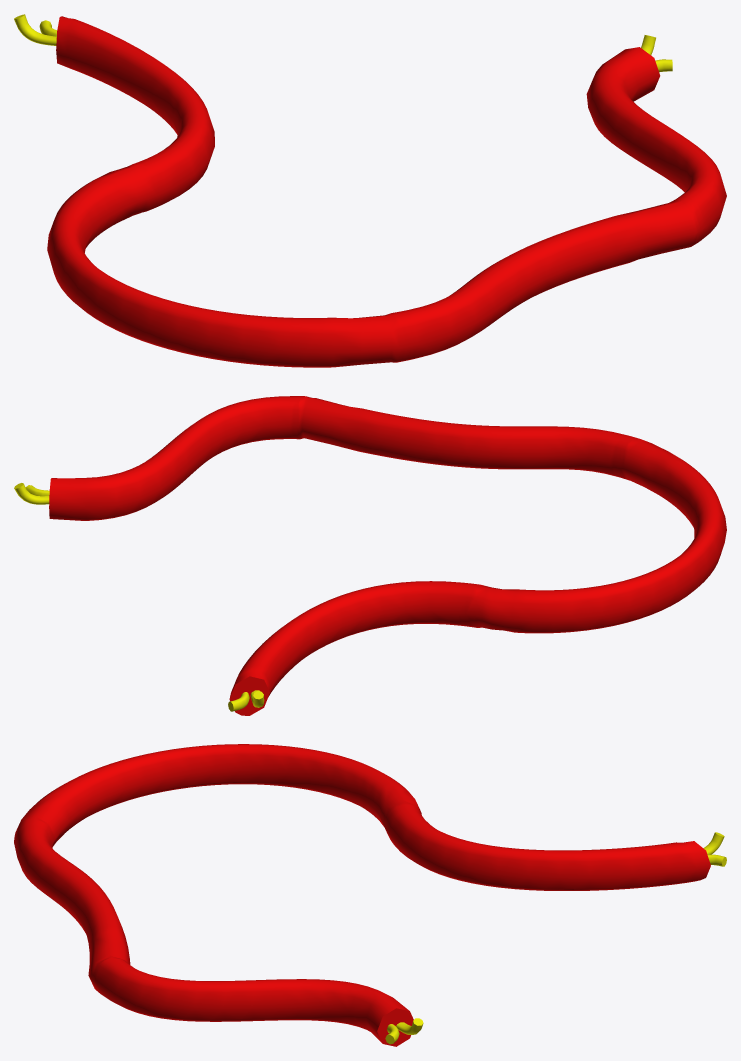
File: cable_2.fbx
3 renders of one model, top to bottom at view 1: azimuth 30°, elevation 25°; view 2: azimuth 150°, elevation 25°; view 3: azimuth 270°, elevation 25°, orthographic. The views are drawn at different scales.
Parts seen in each view (by area): view 1: extrudedSurface8; view 2: extrudedSurface8; view 3: extrudedSurface8.
Part boxes in pixels (bbox=[...]): extrudedSurface8: bbox=[14, 14, 726, 367]; extrudedSurface8: bbox=[14, 396, 726, 715]; extrudedSurface8: bbox=[14, 744, 726, 1046].
Bounding box in the file's own units: 1.05 × 0.067 × 1.12.
